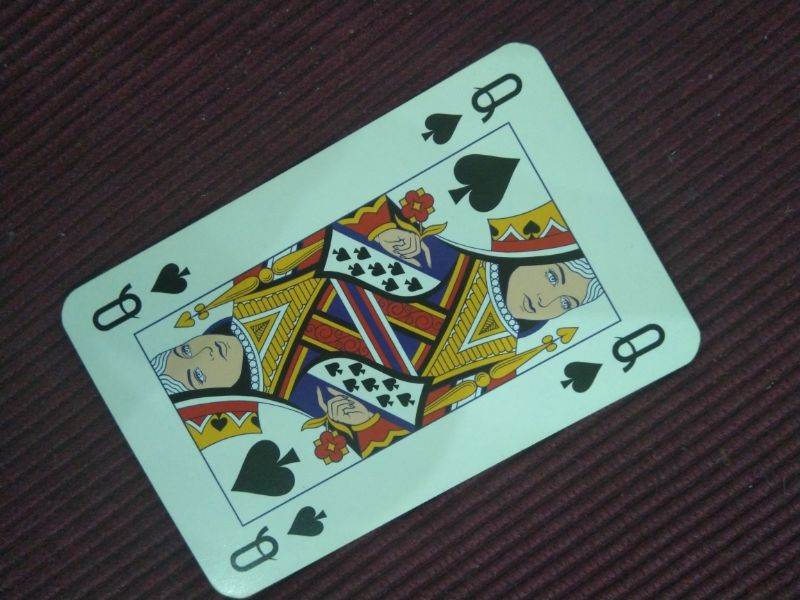Qs: (417, 71, 530, 147), (556, 319, 668, 395), (89, 259, 194, 334), (226, 500, 331, 575)
